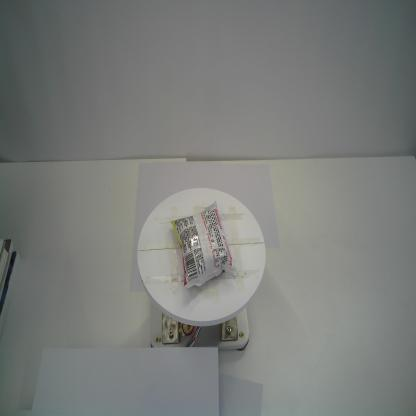Dessert: (170, 200, 237, 288)
